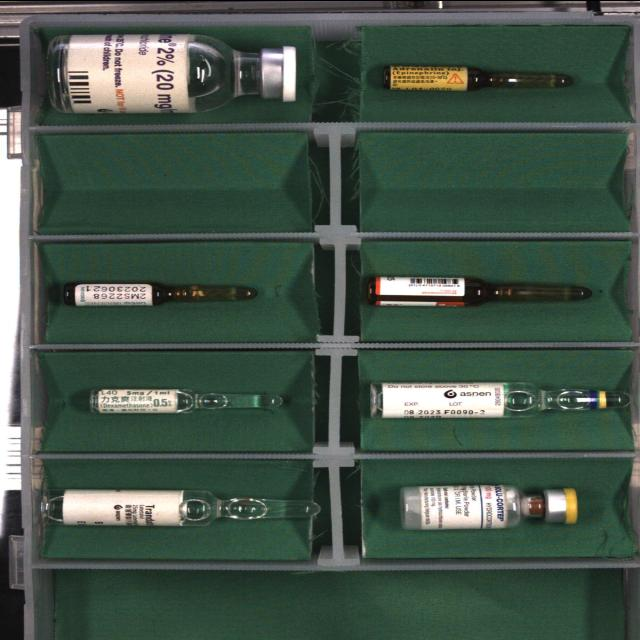Vials: (46, 32, 297, 113), (401, 484, 578, 529)
